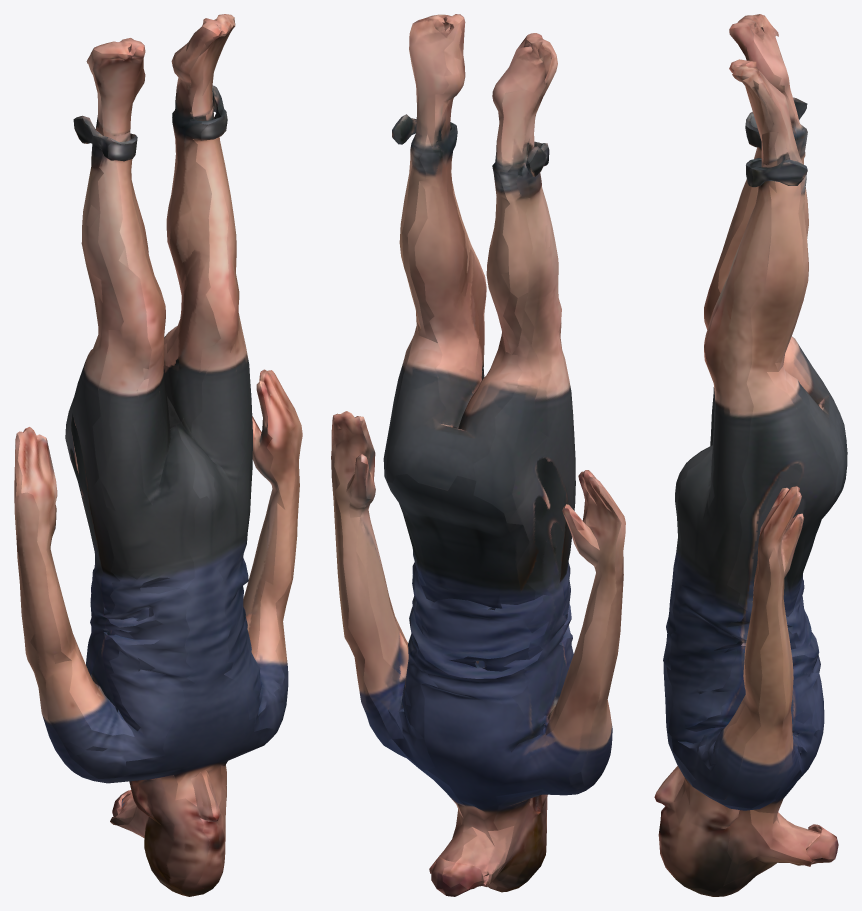
The model's file is ghost_hanging.glb.
3 renders of one model, left to right at view 1: azimuth 30°, elevation 25°; view 2: azimuth 150°, elevation 25°; view 3: azimuth 270°, elevation 25°, orthographic. The views are drawn at different scales.
Parts seen in each view (by area): view 1: geometry_0; view 2: geometry_0; view 3: geometry_0.
Boxes of the visible parts, x1,y1,x2,y2 form: geometry_0: (14, 14, 302, 896); geometry_0: (331, 14, 625, 896); geometry_0: (654, 14, 847, 896).
Size of the model in its own units: 0.6329 by 1.8 by 0.3694.
Materials: 1 (1 with a texture image).
